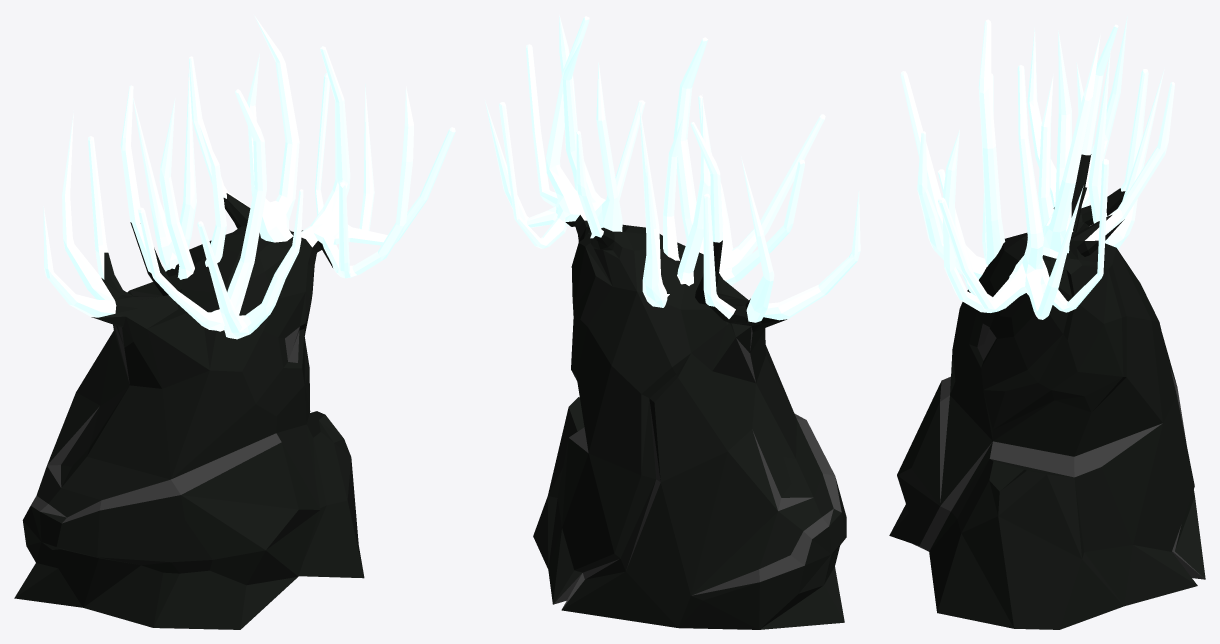
File: SM_Tree_009.glb
The picture shows the model from 3 angles, left to right: view 1: azimuth 30°, elevation 25°; view 2: azimuth 150°, elevation 25°; view 3: azimuth 270°, elevation 25°; orthographic projection. The views are drawn at different scales.
Visible parts, largest first — view 1: SM_Tree_009; view 2: SM_Tree_009; view 3: SM_Tree_009.
Part boxes in pixels (<box>): SM_Tree_009: <box>14,15,455,629</box>; SM_Tree_009: <box>484,15,860,629</box>; SM_Tree_009: <box>889,16,1205,629</box>.
Size of the model in its own units: 5.58 by 7.37 by 3.74.
2 materials, 1 textured.
